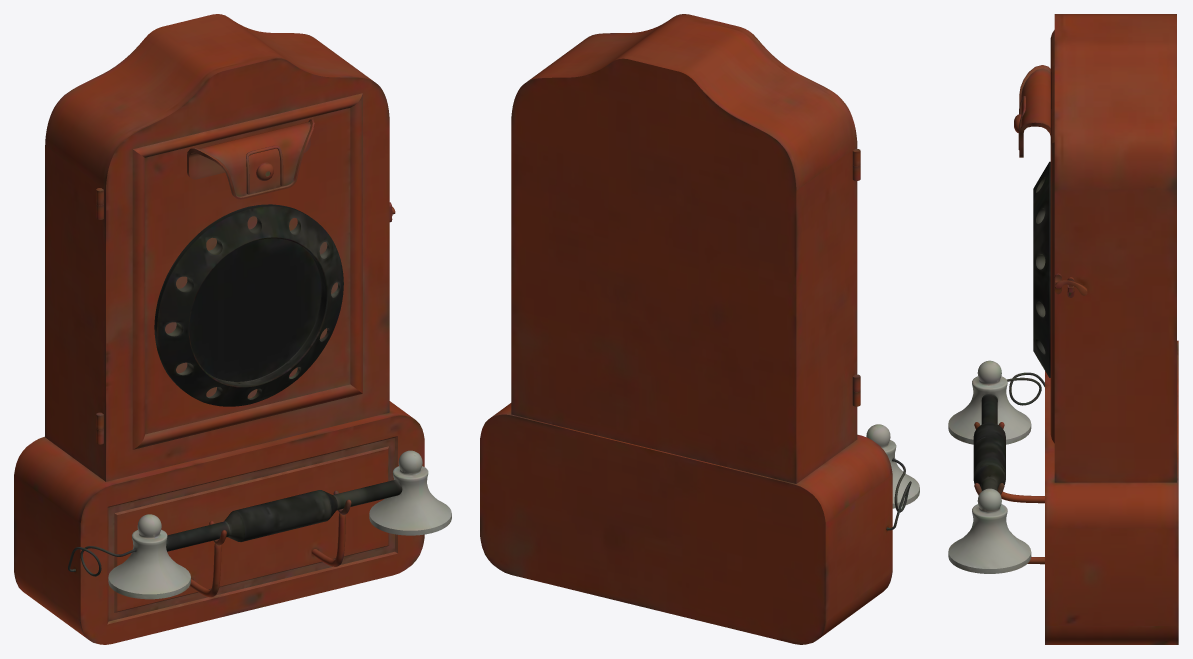
File: vintage_telephone_wall_clock.glb
3 views of the same model, side by side, from view 1: azimuth 30°, elevation 25°; view 2: azimuth 150°, elevation 25°; view 3: azimuth 270°, elevation 25° (orthographic).
Parts seen in each view (by area): view 1: vintage_telephone_wall_clock; view 2: vintage_telephone_wall_clock; view 3: vintage_telephone_wall_clock.
Boxes of the visible parts, x1,y1,x2,y2 form: vintage_telephone_wall_clock: [14, 14, 451, 644]; vintage_telephone_wall_clock: [480, 14, 919, 644]; vintage_telephone_wall_clock: [948, 14, 1178, 644].
Size of the model in its own units: 0.3428 by 0.5012 by 0.1926.
Materials: 2 (2 with a texture image).
